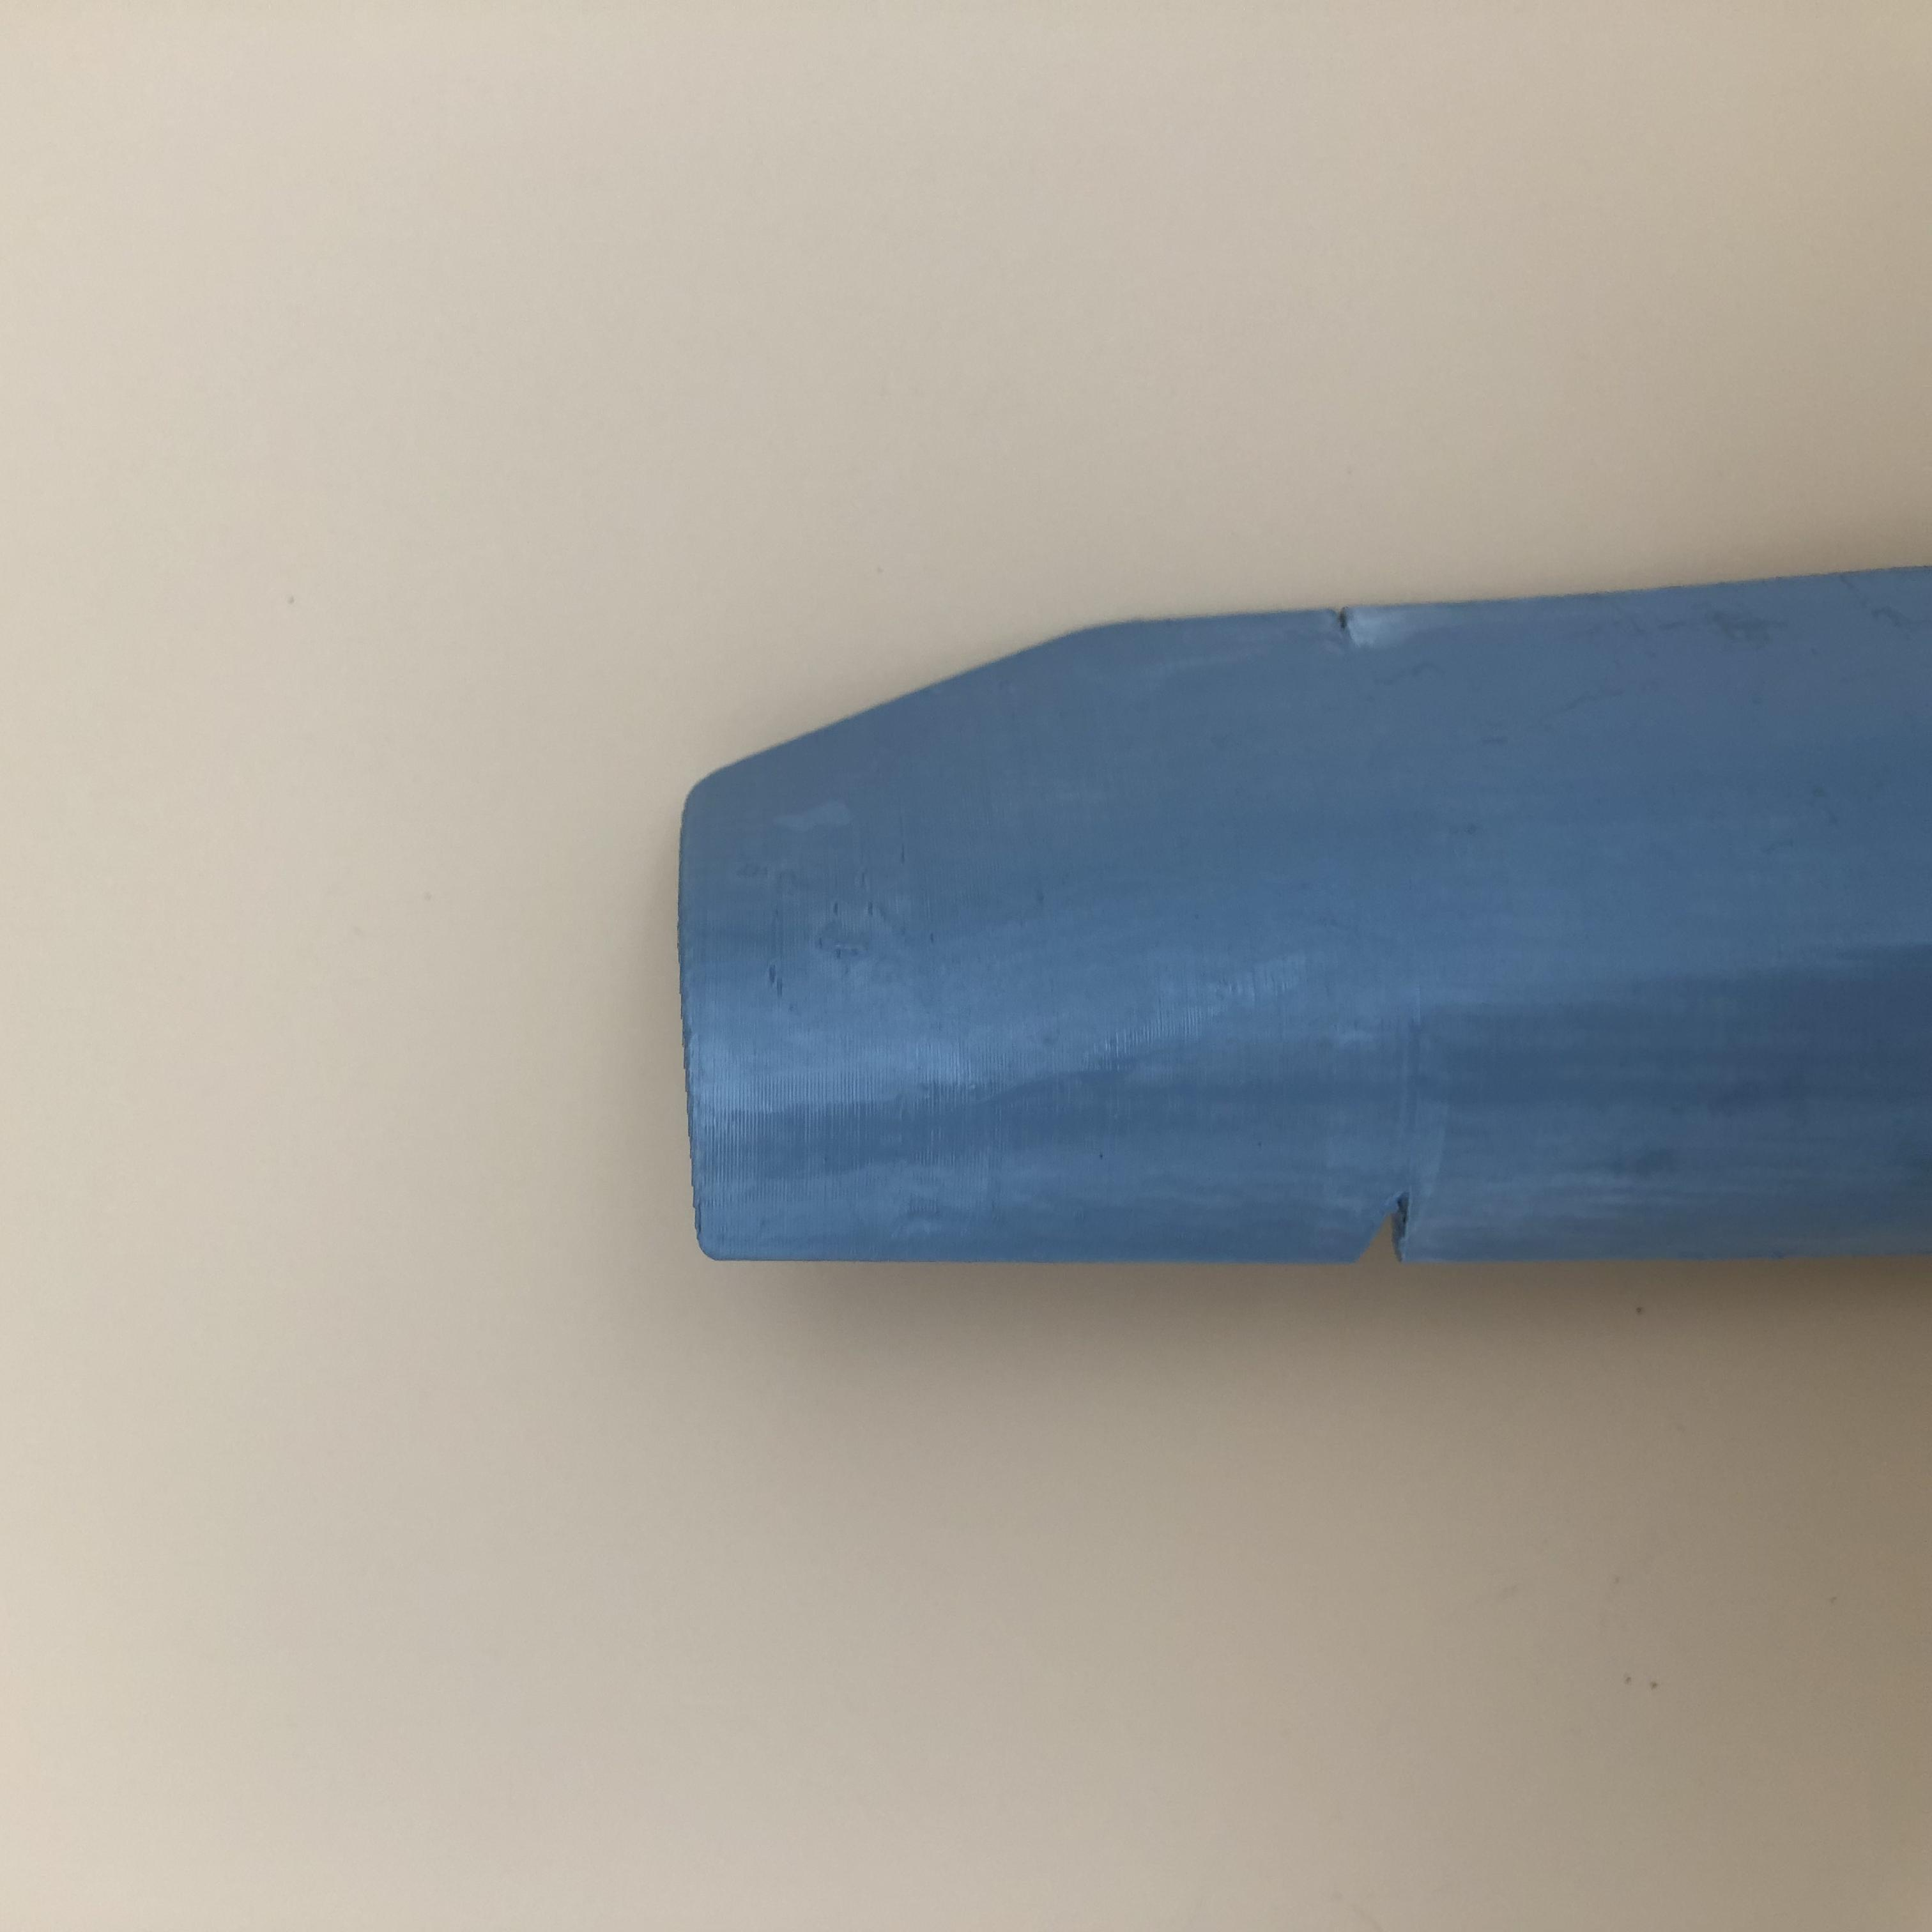groove: (1359, 1184, 1412, 1256), (1318, 600, 1375, 635)
